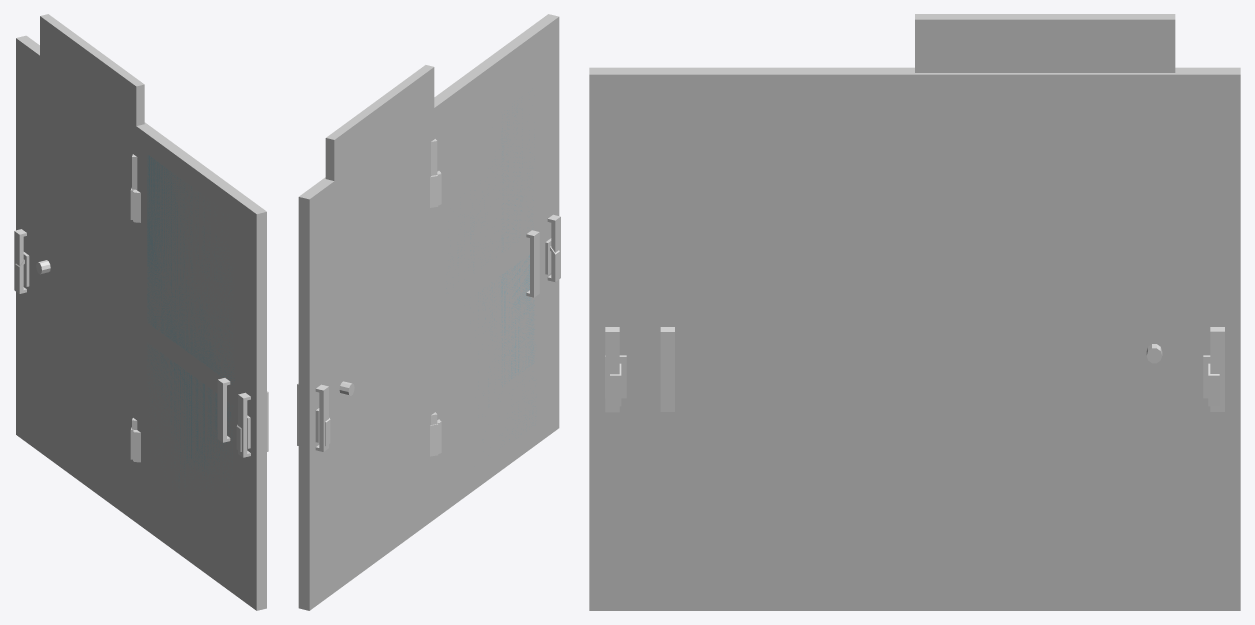
The model's file is xw_doors.fbx.
3 views of the same model, side by side, from view 1: azimuth 30°, elevation 25°; view 2: azimuth 150°, elevation 25°; view 3: azimuth 270°, elevation 25° (orthographic). The views are drawn at different scales.
Visible parts, largest first — view 1: xw_door_std_win_right, xw_door_nw_win_push_left, xw_door_std_right, xw_door_std_win_left, xw_toilet_door_right, xw_door_wind_slide, xw_door_std_left; view 2: xw_door_std_win_right, xw_door_std_win_left, xw_door_std_right, xw_door_std_left, xw_toilet_door_right, xw_door_nw_win_push_left, xw_door_wind_slide; view 3: xw_door_std_win_right, xw_door_std_win_left, xw_door_nw_win_push_left, xw_door_std_right, xw_door_std_left, xw_toilet_door_right.
Boxes of the visible parts, left/top/right/bottom form: xw_door_std_win_right: left=14, top=35, right=146, bottom=521; xw_door_nw_win_push_left: left=134, top=124, right=235, bottom=591; xw_door_std_right: left=15, top=38, right=136, bottom=522; xw_door_std_win_left: left=133, top=123, right=268, bottom=610; xw_toilet_door_right: left=36, top=14, right=144, bottom=520; xw_door_wind_slide: left=136, top=124, right=253, bottom=602; xw_door_std_left: left=136, top=127, right=256, bottom=610; xw_door_std_win_right: left=297, top=108, right=438, bottom=610; xw_door_std_win_left: left=434, top=14, right=560, bottom=518; xw_door_std_right: left=309, top=109, right=434, bottom=608; xw_door_std_left: left=434, top=17, right=559, bottom=518; xw_toilet_door_right: left=325, top=65, right=437, bottom=591; xw_door_nw_win_push_left: left=434, top=30, right=539, bottom=478; xw_door_wind_slide: left=434, top=23, right=547, bottom=518; xw_door_std_win_right: left=915, top=67, right=1240, bottom=610; xw_door_std_win_left: left=589, top=67, right=914, bottom=610; xw_door_nw_win_push_left: left=645, top=67, right=911, bottom=610; xw_door_std_right: left=915, top=74, right=1240, bottom=610; xw_door_std_left: left=589, top=74, right=914, bottom=610; xw_toilet_door_right: left=915, top=14, right=1175, bottom=363.
Size of the model in its own units: 14.37 by 220 by 220.
